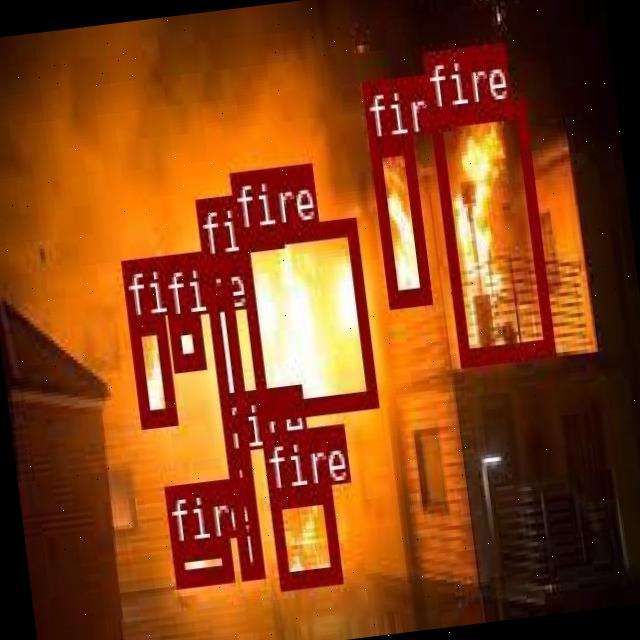fire: (428, 98, 552, 363), (234, 215, 376, 418), (368, 133, 430, 304), (200, 254, 248, 430), (266, 484, 340, 586), (127, 312, 175, 423), (224, 449, 262, 575), (171, 538, 231, 586), (166, 311, 202, 367)
